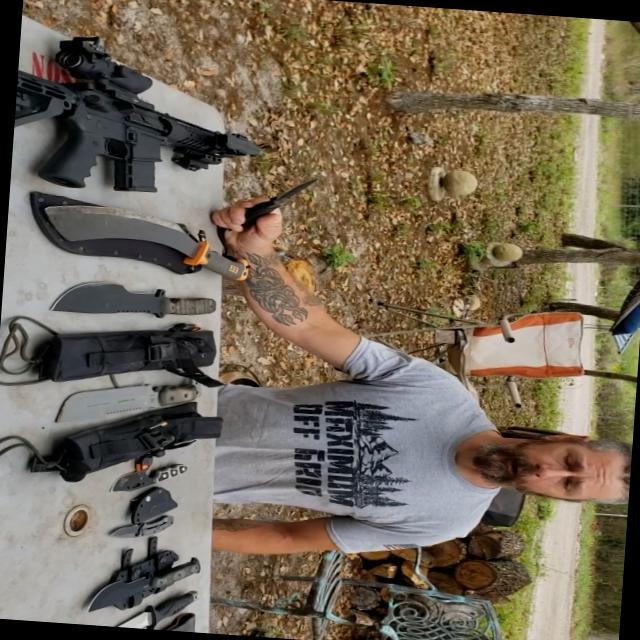knife: (31, 197, 260, 287), (53, 364, 222, 438), (77, 546, 211, 620), (54, 276, 225, 330), (90, 444, 211, 519), (92, 499, 192, 559), (218, 174, 312, 236), (107, 580, 212, 632)
long weapon: (9, 31, 283, 214)
